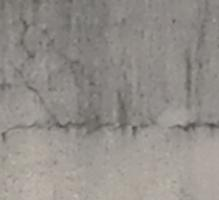termicas: (2, 10, 219, 151), (10, 8, 86, 119)
